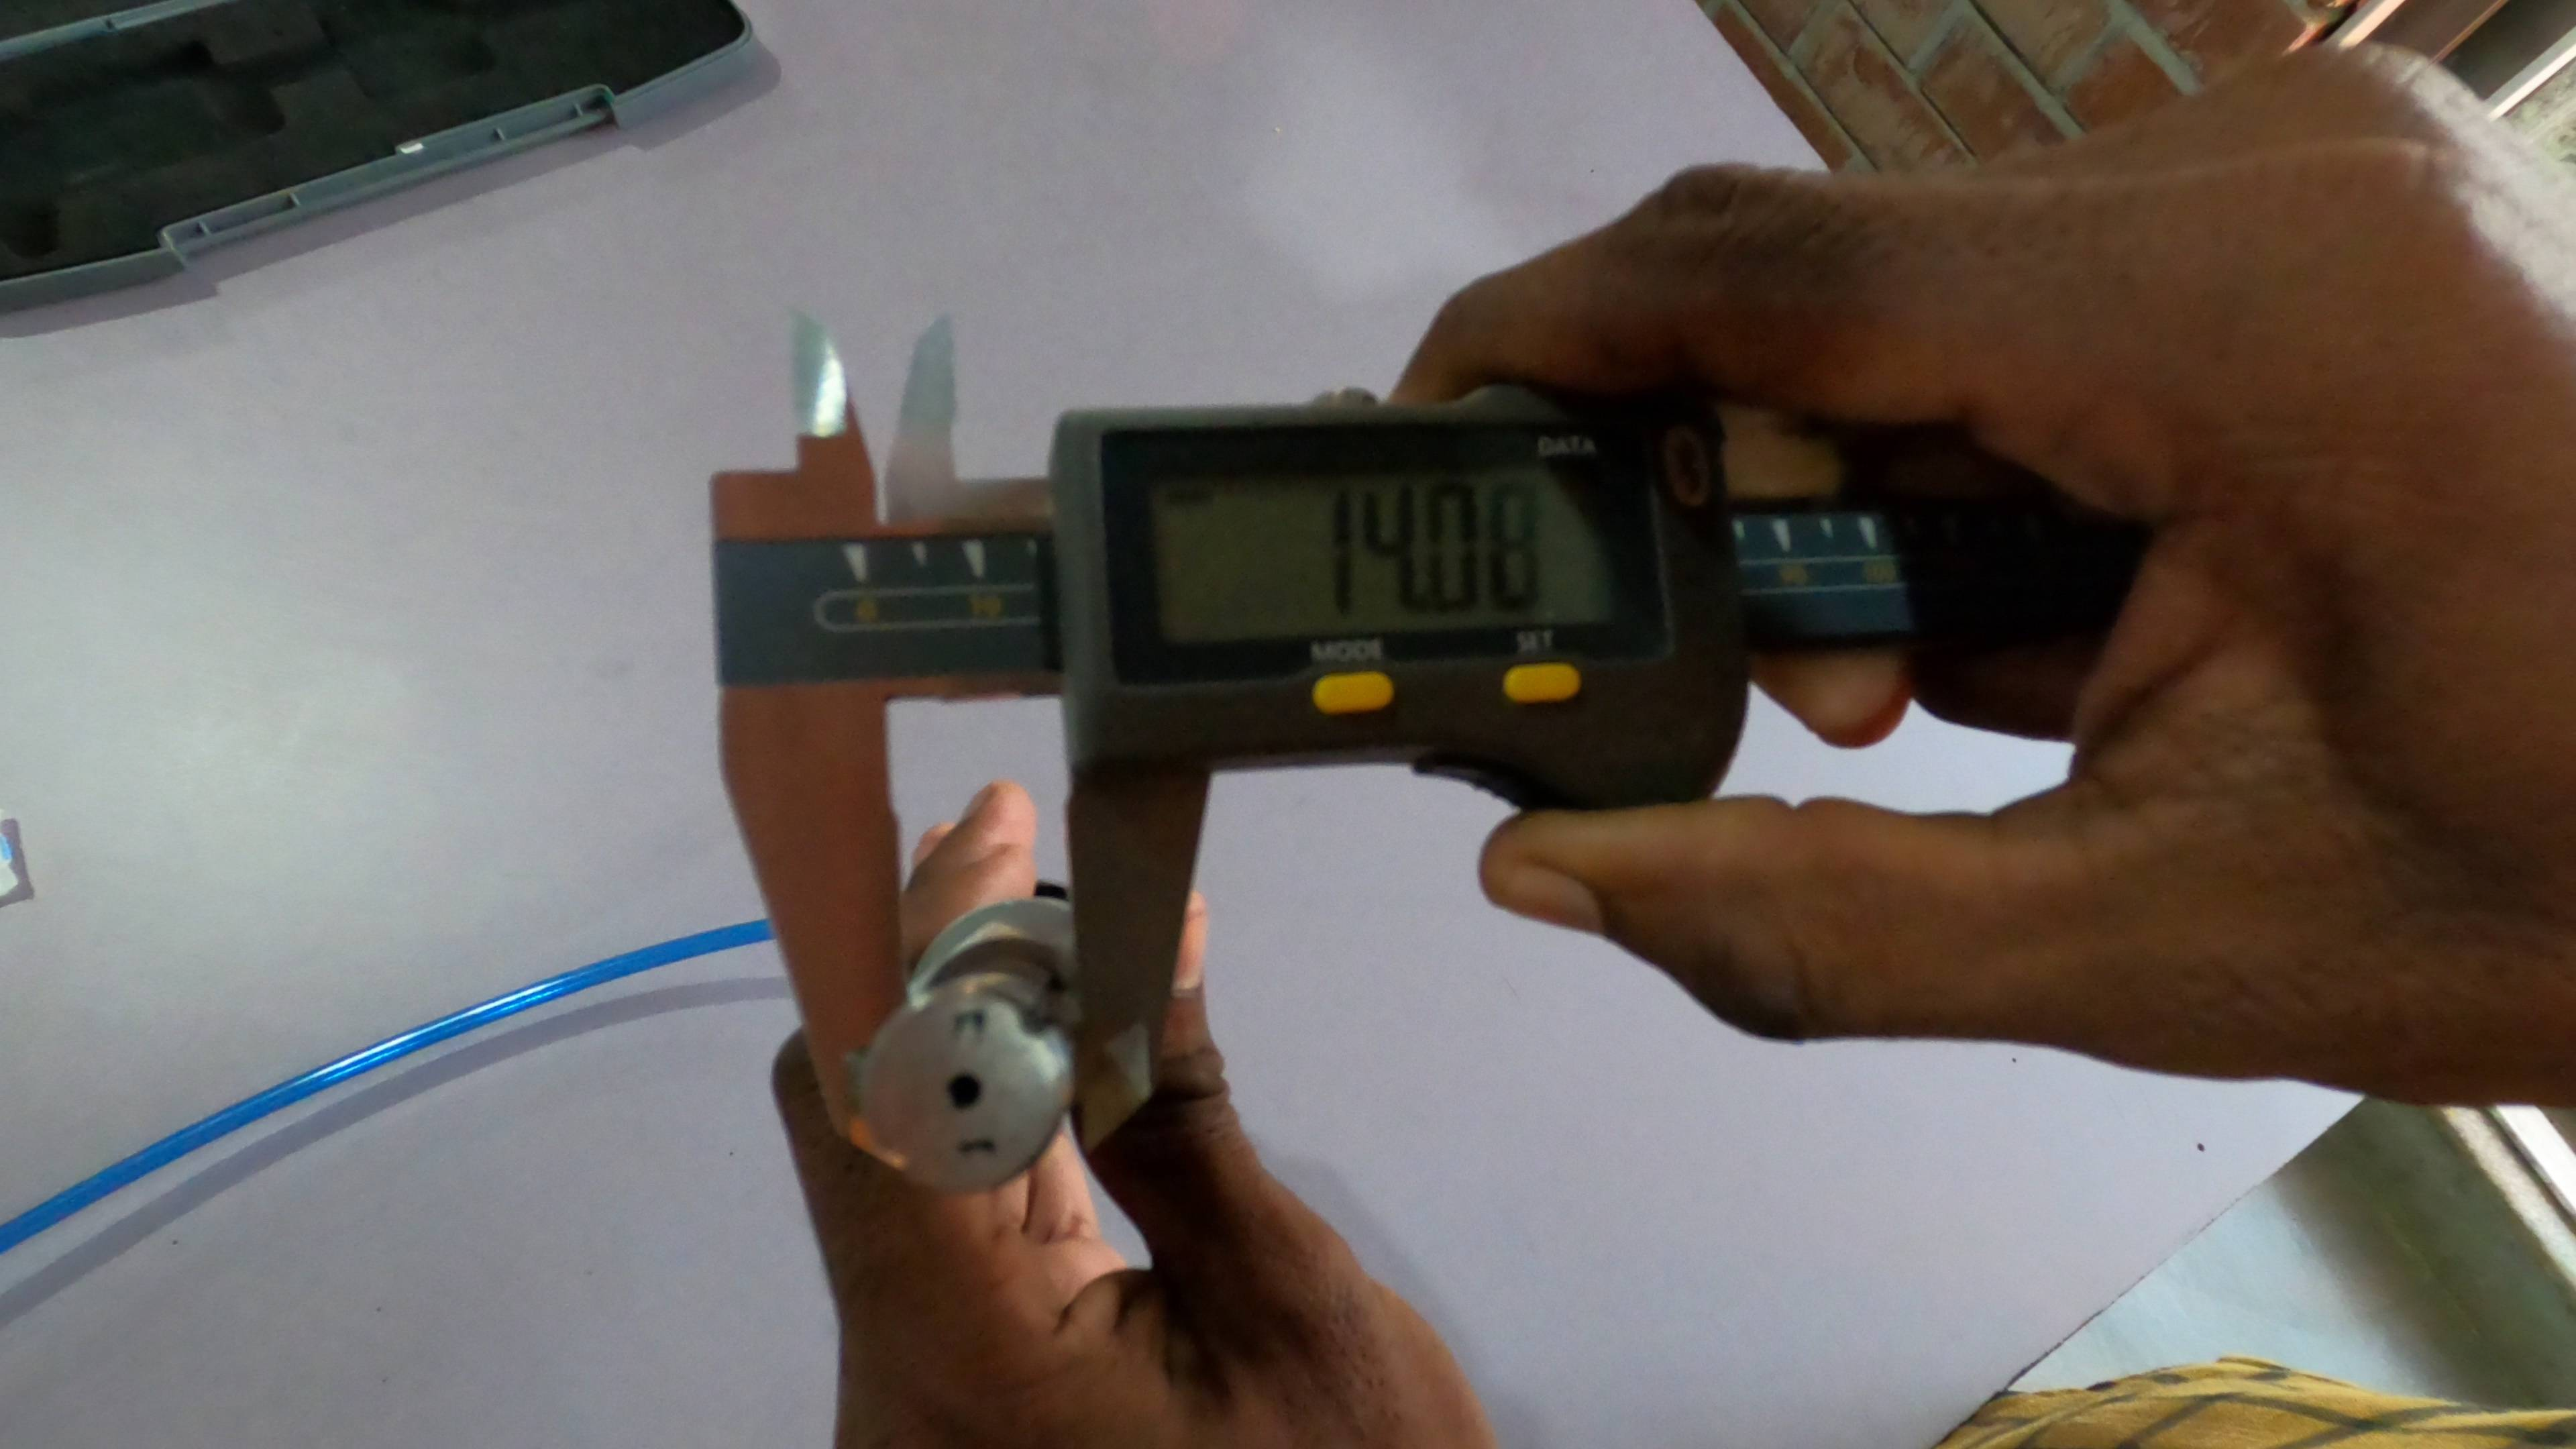vernier_caliper: (713, 303, 2042, 1203)
